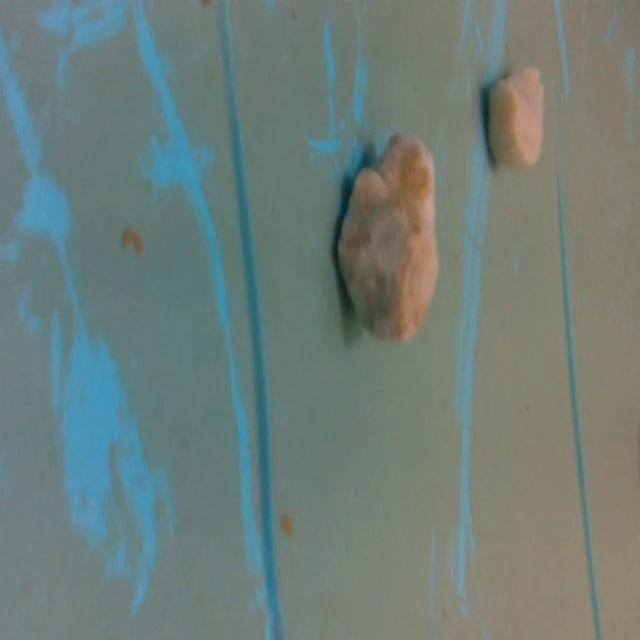rock: (333, 127, 450, 348), (481, 58, 550, 175)
